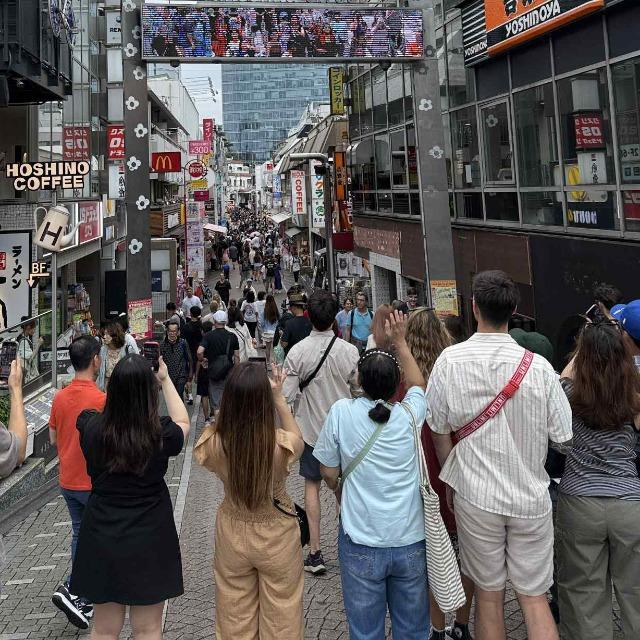NoHelmet: (99, 354, 161, 422), (470, 266, 525, 328), (353, 347, 404, 399)
NoVest: (436, 339, 560, 497), (332, 400, 428, 543)
